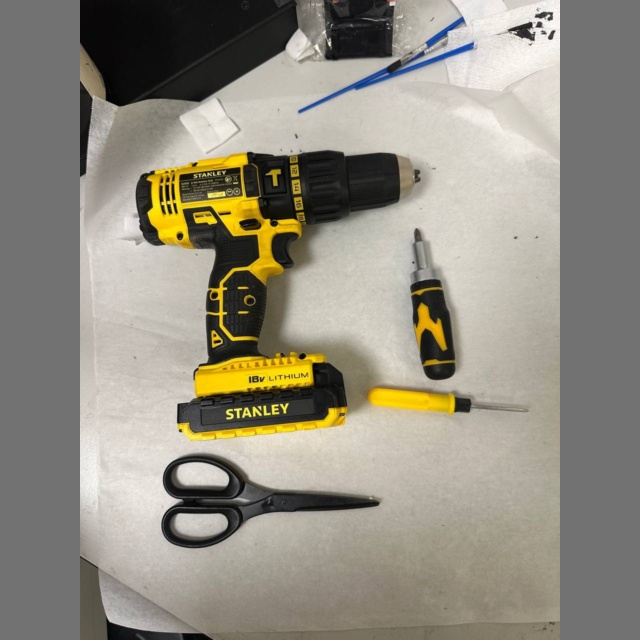drill: (135, 150, 413, 440)
scissor: (162, 455, 378, 548)
screwdriver: (410, 229, 455, 379), (368, 388, 529, 414)
